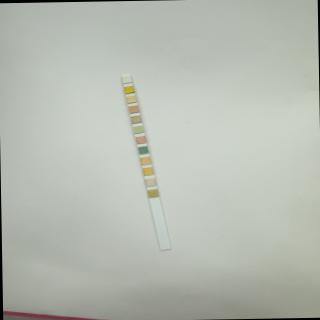mark: (148, 188, 158, 196), (140, 156, 150, 164), (133, 125, 143, 133), (129, 105, 139, 113), (126, 95, 136, 103), (124, 85, 134, 93), (122, 75, 132, 83), (146, 178, 155, 186), (139, 146, 148, 154), (136, 136, 145, 144), (132, 115, 140, 123), (143, 167, 152, 174)
